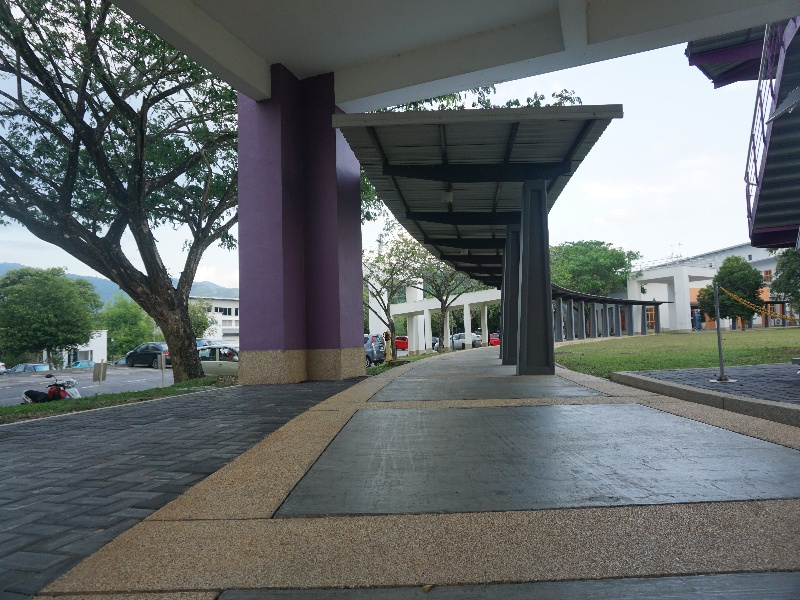Block D Pillar 6: (4, 4, 800, 513)
pillar: (215, 55, 377, 379), (512, 177, 561, 392)
